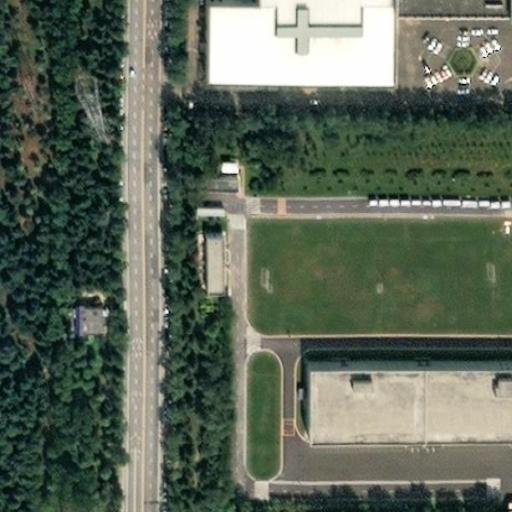building: (297, 353, 512, 421), (201, 228, 224, 293), (201, 159, 239, 191), (73, 303, 105, 334), (193, 201, 225, 216)
